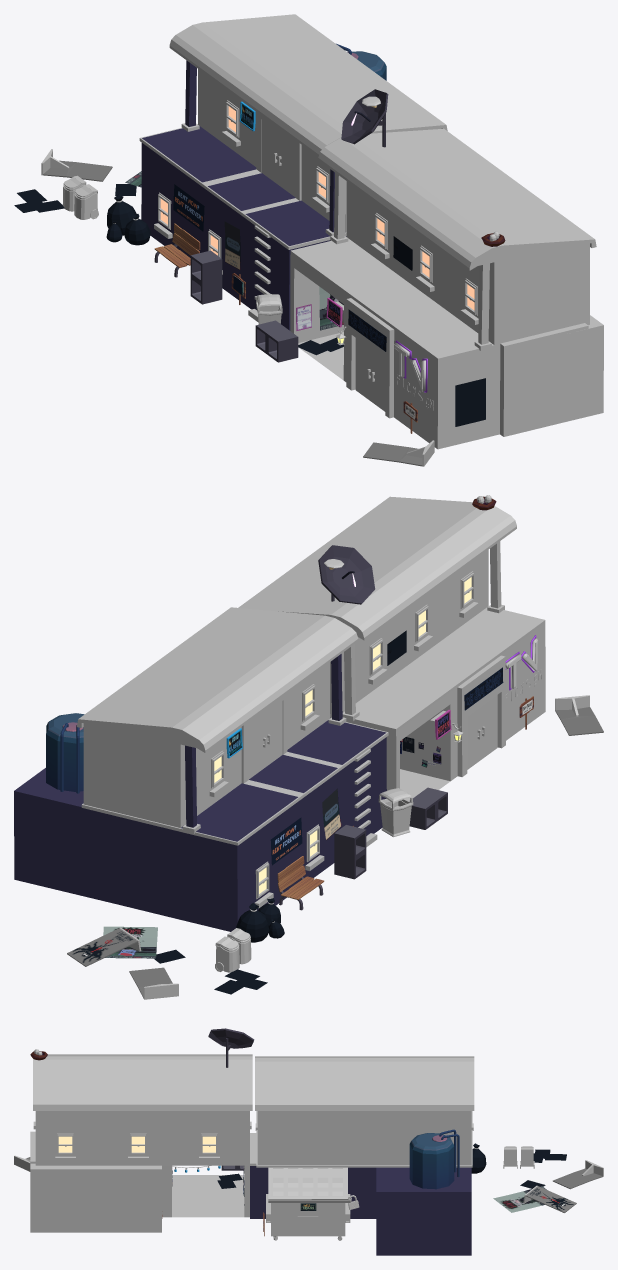
Rendered from DBLongHomes.fbx.
3 renders of one model, top to bottom at view 1: azimuth 30°, elevation 25°; view 2: azimuth 150°, elevation 25°; view 3: azimuth 270°, elevation 25°, orthographic. The views are drawn at different scales.
Parts seen in each view (by area): view 1: TV Ficksem, SmolHome02, Poster, Receiver.013, Cinderblock_New_Tall, Posters.051, BlackBag,Smol.004, Cinderblock_New, Poster.164, HumanPoster.012, HumanPoster.011, Street_Bench (+8 smaller); view 2: SmolHome02, TV Ficksem, WaterTank.005, Receiver.013, Posters.049, Cinderblock_New_Tall, Poster, Posters.051, HumanPoster.011, BlackBag,Smol.004, HumanPoster.010, Trashcans.002 (+8 smaller); view 3: TV Ficksem, SmolHome02, Dumpster.016, WaterTank.005, Posters.049, Receiver.013, HumanPoster.012, HumanPoster.010, BlackBag,Smol.004.
Boxes of the visible parts, x1,y1,x2,y2 form: TV Ficksem: (290,128,603,449); SmolHome02: (139,14,447,330); Poster: (296,236,412,351); Receiver.013: (341,89,388,147); Cinderblock_New_Tall: (190,250,222,304); Posters.051: (173,184,240,269); BlackBag,Smol.004: (106,194,150,245); Cinderblock_New: (255,320,298,362); Poster.164: (455,378,485,426); HumanPoster.012: (41,149,112,181); HumanPoster.011: (363,440,434,466); Street_Bench: (154,223,200,277); SmolHome02: (14,607,388,931); TV Ficksem: (238,496,545,800); WaterTank.005: (46,713,84,793); Receiver.013: (318,545,375,604); Posters.049: (103,926,267,994); Cinderblock_New_Tall: (334,825,366,879); Poster: (387,630,503,767); Posters.051: (270,788,341,865); HumanPoster.011: (555,695,603,735); BlackBag,Smol.004: (236,898,284,942); HumanPoster.010: (67,927,141,966); Trashcans.002: (378,788,413,837); TV Ficksem: (30,1054,252,1232); SmolHome02: (249,1056,474,1255); Dumpster.016: (266,1167,359,1240); WaterTank.005: (409,1129,459,1189); Posters.049: (493,1149,566,1212); Receiver.013: (208,1028,254,1067); HumanPoster.012: (553,1160,603,1189); HumanPoster.010: (523,1185,576,1212); BlackBag,Smol.004: (471,1143,486,1173).
Size of the model in its own units: 1928 by 1519 by 4601.
